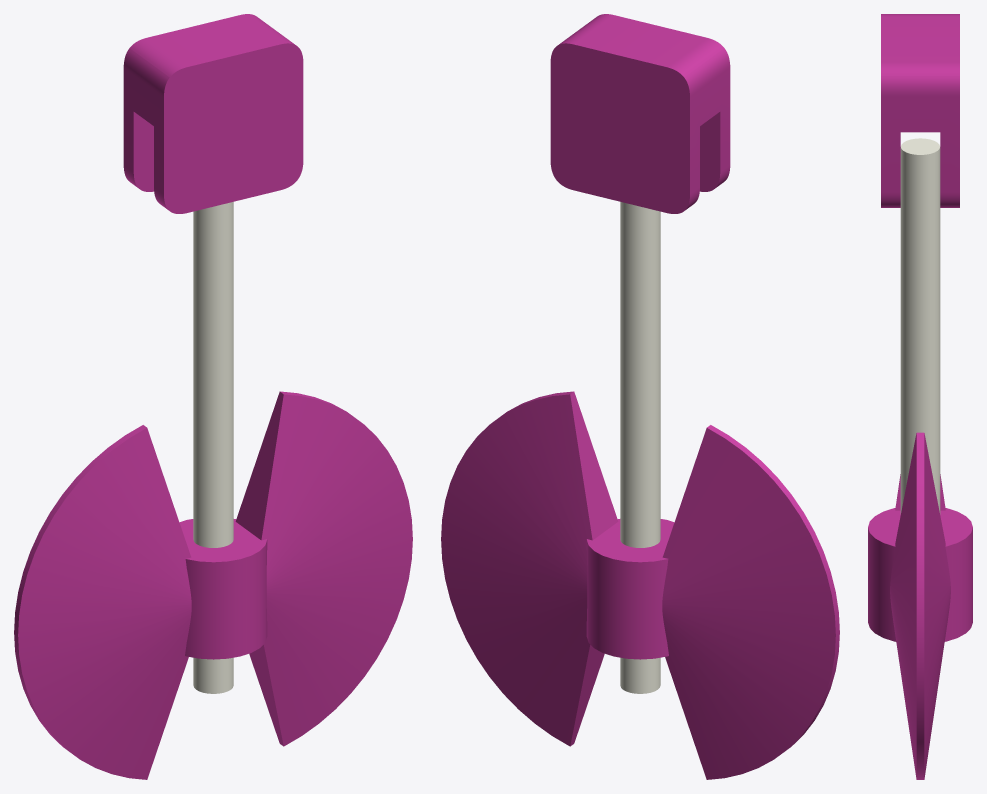
File: Axe.fbx
3 views of the same model, side by side, from view 1: azimuth 30°, elevation 25°; view 2: azimuth 150°, elevation 25°; view 3: azimuth 270°, elevation 25° (orthographic). The views are drawn at different scales.
Visible parts, largest first — view 1: Cylinder007, Bariyer_Ayagi001; view 2: Cylinder007, Bariyer_Ayagi001; view 3: Cylinder007, Bariyer_Ayagi001.
Part boxes in pixels (x1,y1,x2,y2): Cylinder007: (14,202,412,779); Bariyer_Ayagi001: (123,14,303,213); Cylinder007: (441,202,839,779); Bariyer_Ayagi001: (550,14,730,213); Cylinder007: (868,138,972,779); Bariyer_Ayagi001: (881,14,959,207).
Size of the model in its own units: 16.99 by 29.64 by 4.
